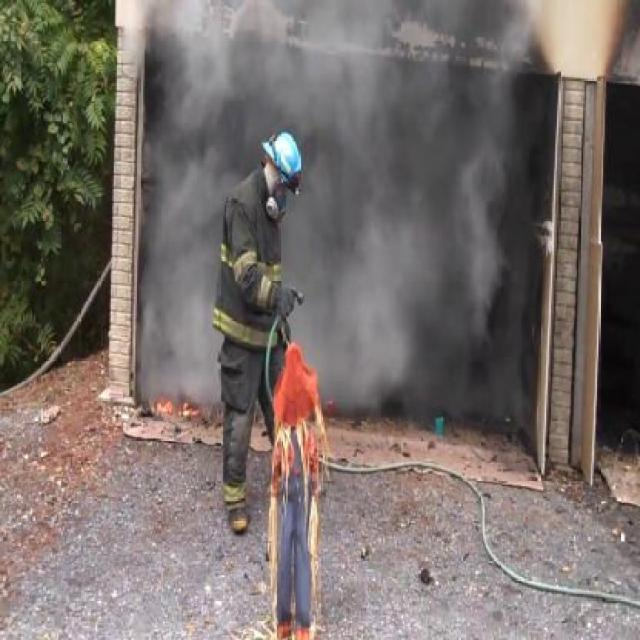smoke: (296, 33, 556, 394), (136, 26, 258, 382)
